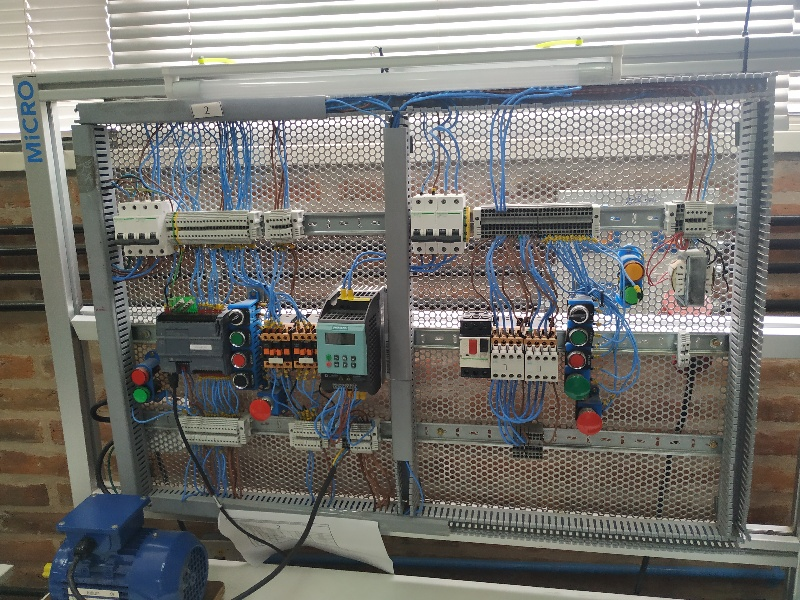Tablero 2: (78, 113, 744, 547)
